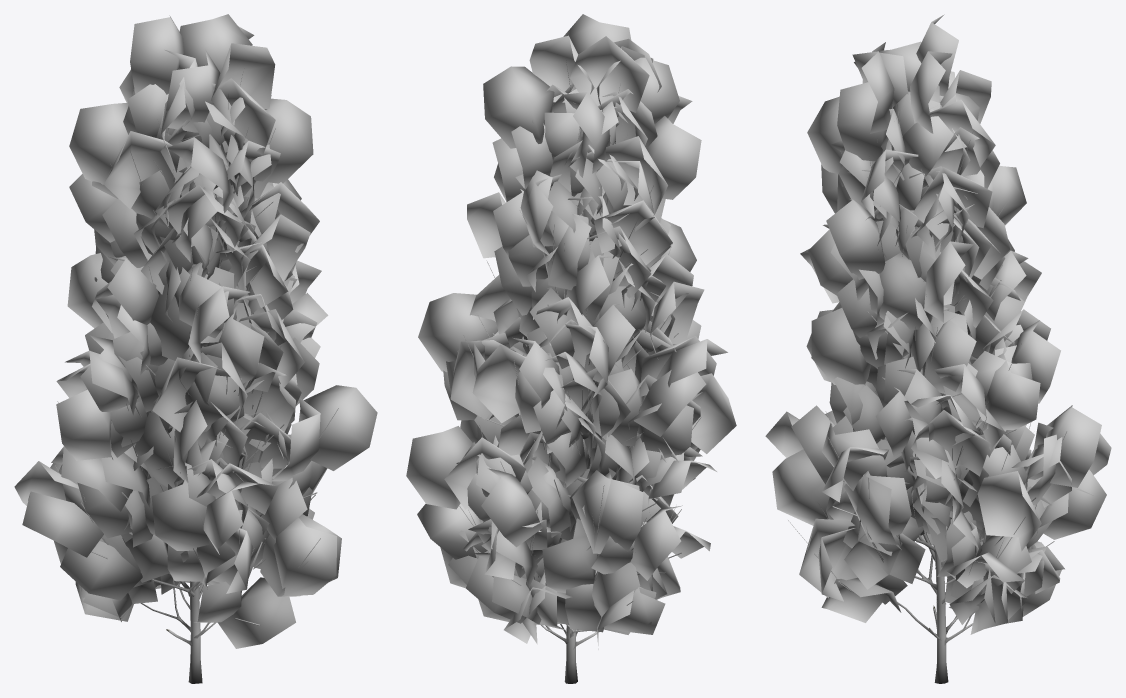
The model's file is BeechEuropean_D.fbx.
The picture shows the model from 3 angles, left to right: view 1: azimuth 30°, elevation 25°; view 2: azimuth 150°, elevation 25°; view 3: azimuth 270°, elevation 25°; orthographic projection. The views are drawn at different scales.
Parts seen in each view (by area): view 1: BeechEuropean_D_LOD0; view 2: BeechEuropean_D_LOD0; view 3: BeechEuropean_D_LOD0.
Boxes of the visible parts, left/top/right/bottom form: BeechEuropean_D_LOD0: left=14, top=14, right=377, bottom=683; BeechEuropean_D_LOD0: left=406, top=14, right=736, bottom=683; BeechEuropean_D_LOD0: left=765, top=14, right=1111, bottom=683.
Size of the model in its own units: 1225 by 2675 by 1301.
